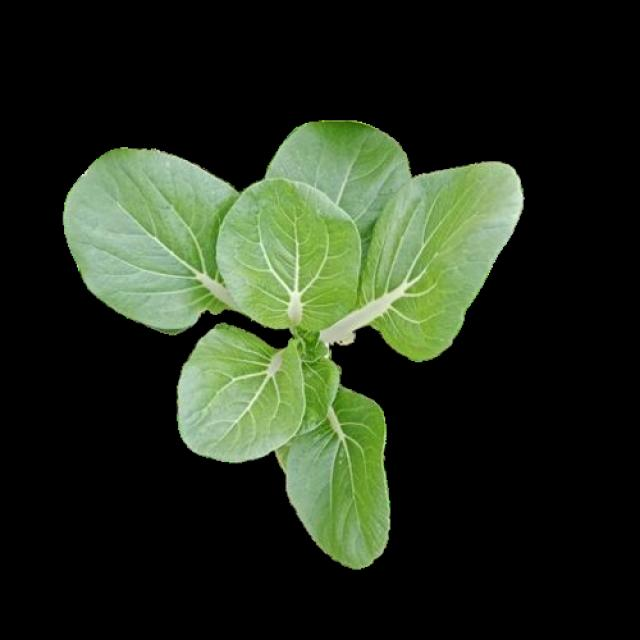healthy: (67, 140, 520, 576)
not-mature: (62, 120, 514, 557)
